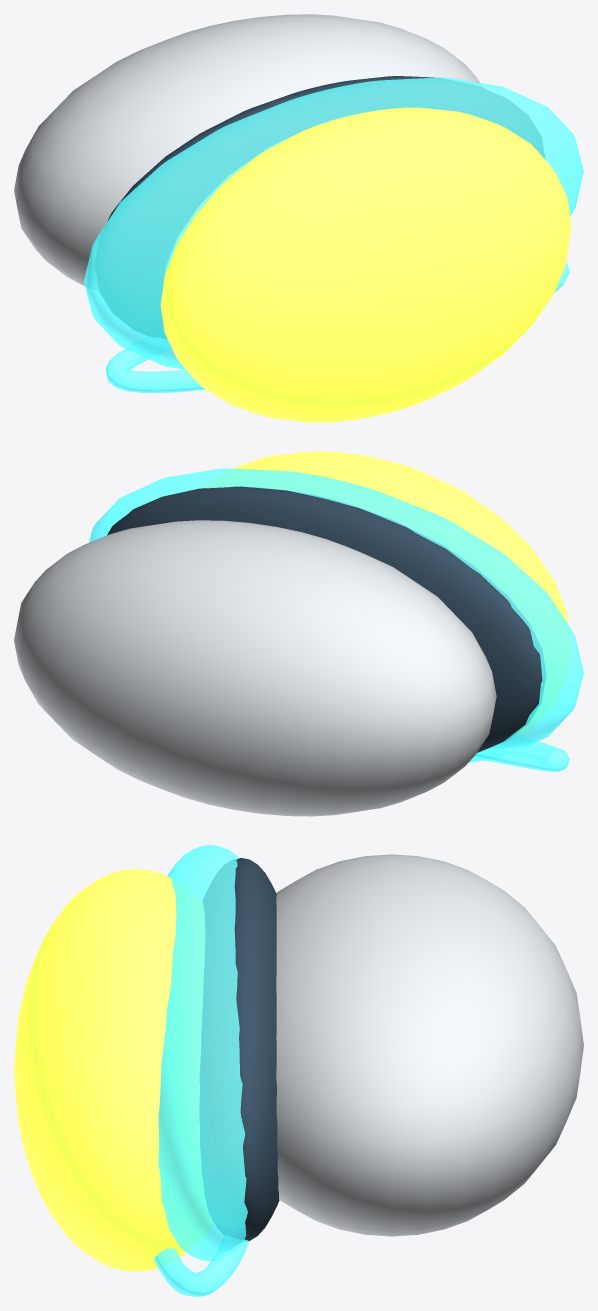
Rendered from hover-shell-strike-v1.glb.
The picture shows the model from 3 angles, top to bottom: view 1: azimuth 30°, elevation 25°; view 2: azimuth 150°, elevation 25°; view 3: azimuth 270°, elevation 25°; orthographic projection. The views are drawn at different scales.
Visible parts, largest first — view 1: downward-facing lime impact underside, floating white rounded upper shell, cyan broad perimeter lip, dark seam between shell and strike face, bright cyan lip edge; view 2: floating white rounded upper shell, dark seam between shell and strike face, downward-facing lime impact underside, cyan broad perimeter lip, bright cyan lip edge; view 3: floating white rounded upper shell, downward-facing lime impact underside, cyan broad perimeter lip, dark seam between shell and strike face, bright cyan lip edge.
Part boxes in pixels (x1,y1,x2,y2): downward-facing lime impact underside: (160,107,571,422); floating white rounded upper shell: (14,14,481,291); cyan broad perimeter lip: (84,77,583,369); dark seam between shell and strike face: (95,76,544,338); bright cyan lip edge: (106,262,569,392); floating white rounded upper shell: (14,520,496,816); dark seam between shell and strike face: (107,486,545,752); downward-facing lime impact underside: (202,451,570,735); cyan broad perimeter lip: (89,468,583,762); bright cyan lip edge: (473,741,569,771); floating white rounded upper shell: (276,854,583,1236); downward-facing lime impact underside: (14,869,213,1271); cyan broad perimeter lip: (158,845,247,1261); dark seam between shell and strike face: (200,858,279,1241); bright cyan lip edge: (153,1239,249,1296).
Bounding box in the file's own units: 0.622 × 0.353 × 0.537.
